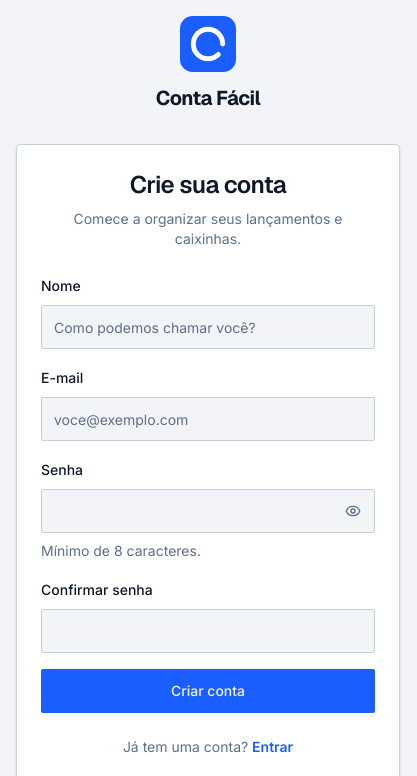
it: TelaCadastro › explica quando o e-mail ja esta cadastrado sem quebrar a tela
Type "Ana Souza" into the field labelled "Nome" at point(208, 327), box left=41, top=305, right=375, bottom=349
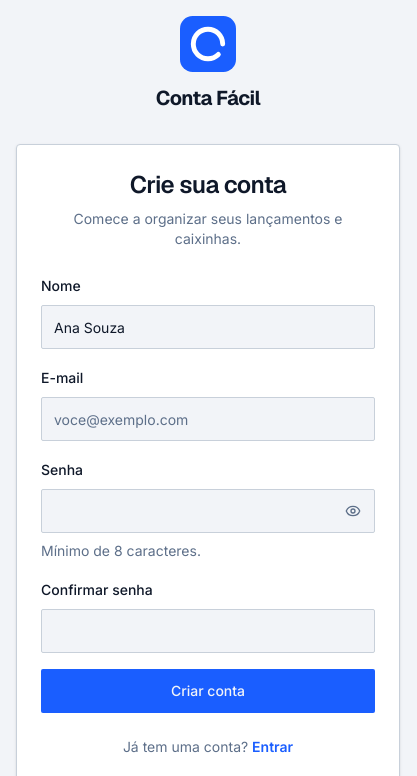
Type "existente@exemplo.com" into the field labelled "E-mail" at point(208, 419), box left=41, top=397, right=375, bottom=441
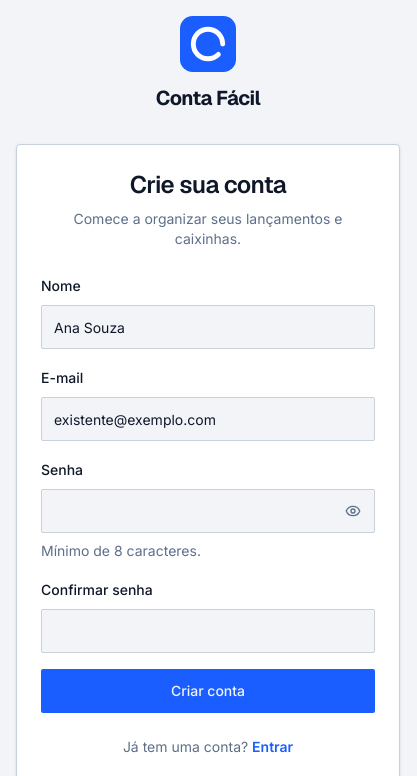
Type "segredo123" into the password field labelled "Senha" at point(208, 511), box left=41, top=489, right=375, bottom=533
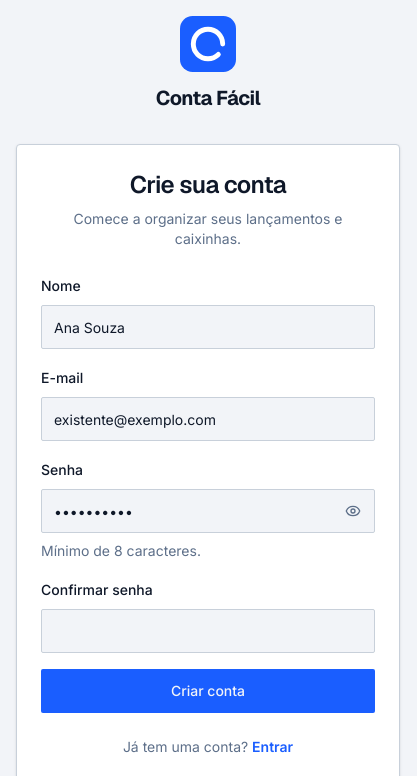
Type "segredo123" into the password field labelled "Confirmar senha" at point(208, 631), box left=41, top=609, right=375, bottom=653
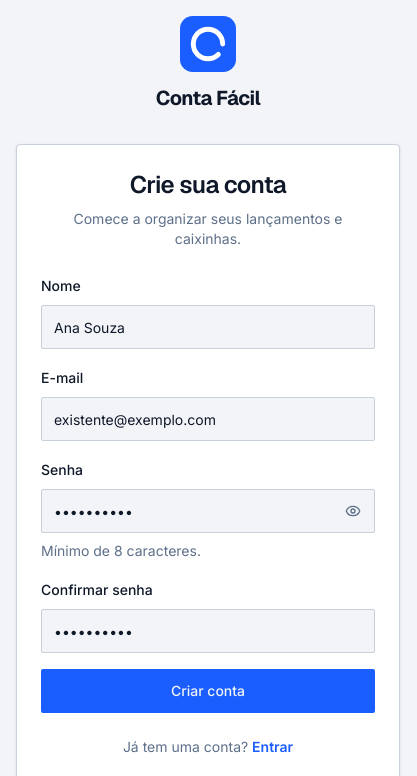
Click the button "Criar conta" at point(208, 691), box left=41, top=669, right=375, bottom=713
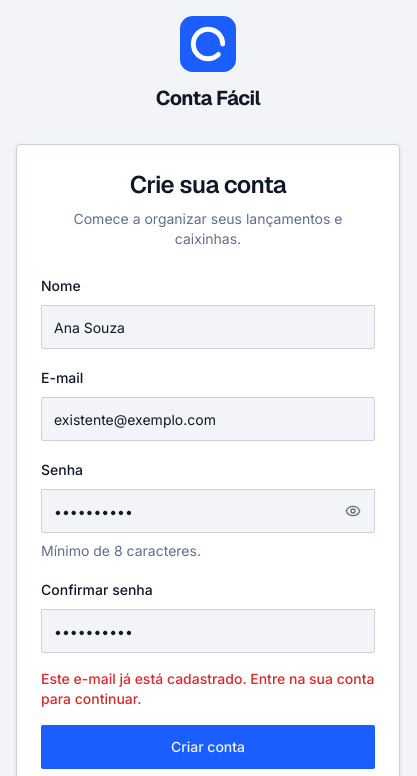
Check: the text "Este e-mail já está cadastrado. Entre na sua conta para continuar." is shown, box left=41, top=669, right=375, bottom=709
